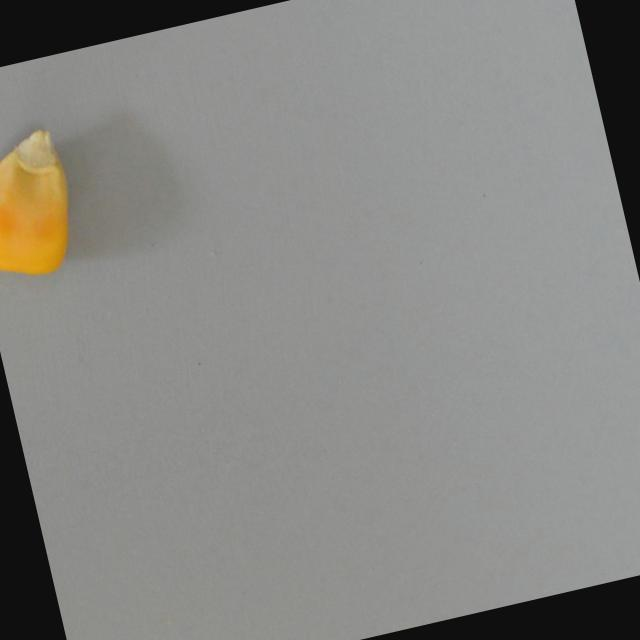entero: (0, 123, 90, 287)
